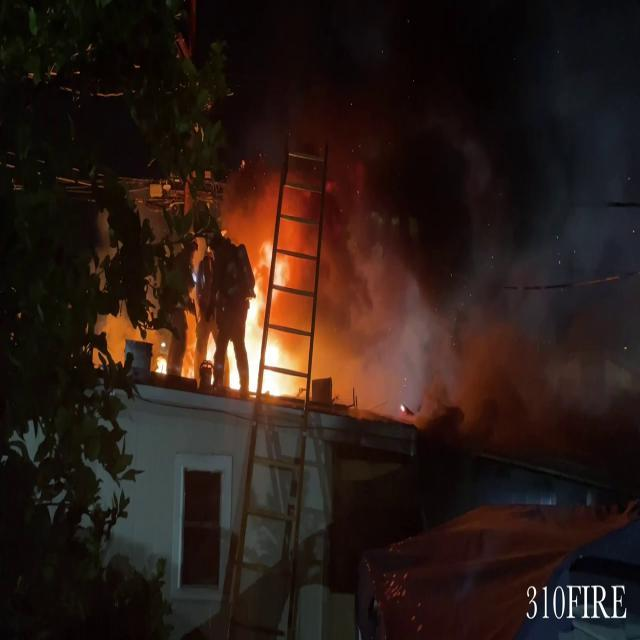Fire: (224, 253, 306, 405)
Smoke: (228, 1, 640, 431)
